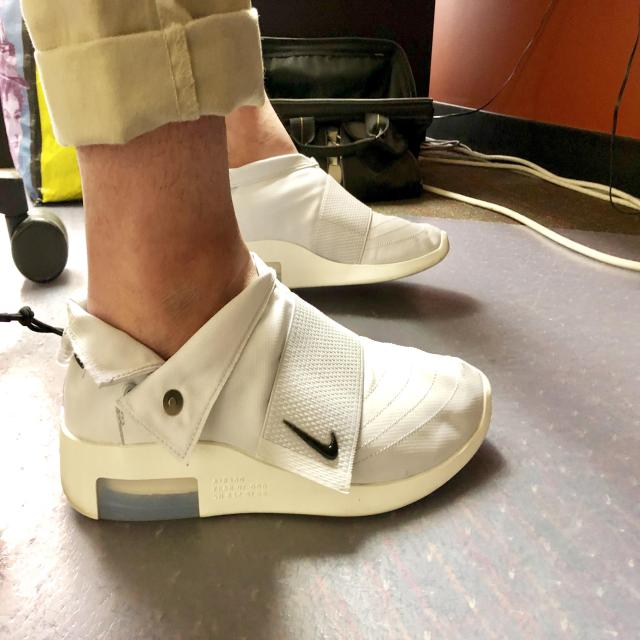shoe: (60, 266, 493, 527), (220, 151, 453, 288)
